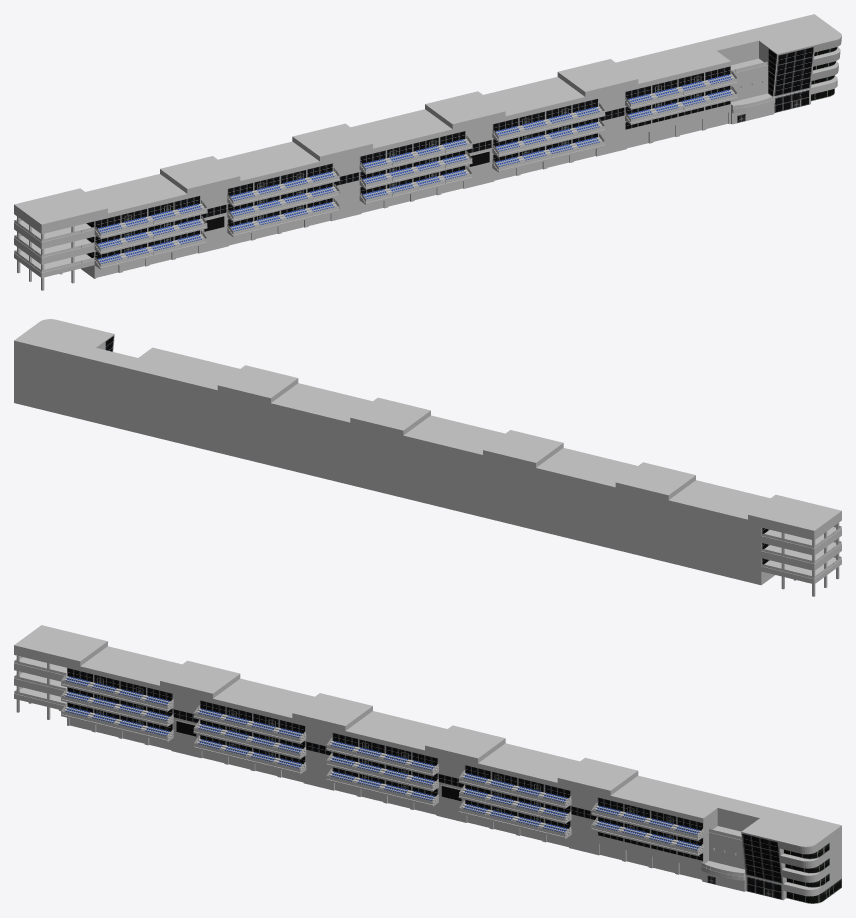
File: Building-Grid-13.fbx
The picture shows the model from 3 angles, top to bottom: view 1: azimuth 30°, elevation 25°; view 2: azimuth 150°, elevation 25°; view 3: azimuth 330°, elevation 25°; orthographic projection.
Parts seen in each view (by area): view 1: Building-Grid-13; view 2: Building-Grid-13; view 3: Building-Grid-13.
Part boxes in pixels (x1,y1,x2,y2): Building-Grid-13: [14, 14, 841, 290]; Building-Grid-13: [14, 319, 841, 596]; Building-Grid-13: [14, 625, 841, 903].
Bounding box in the file's own units: 30186 × 2428 × 2200.
